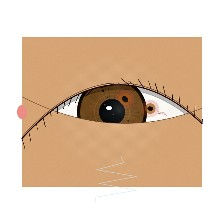foreign_body_visible: (136, 97, 165, 120)
